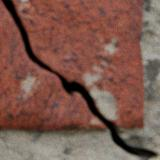broken_brick: (11, 0, 142, 127), (0, 0, 105, 129)
crack: (1, 0, 159, 159)
